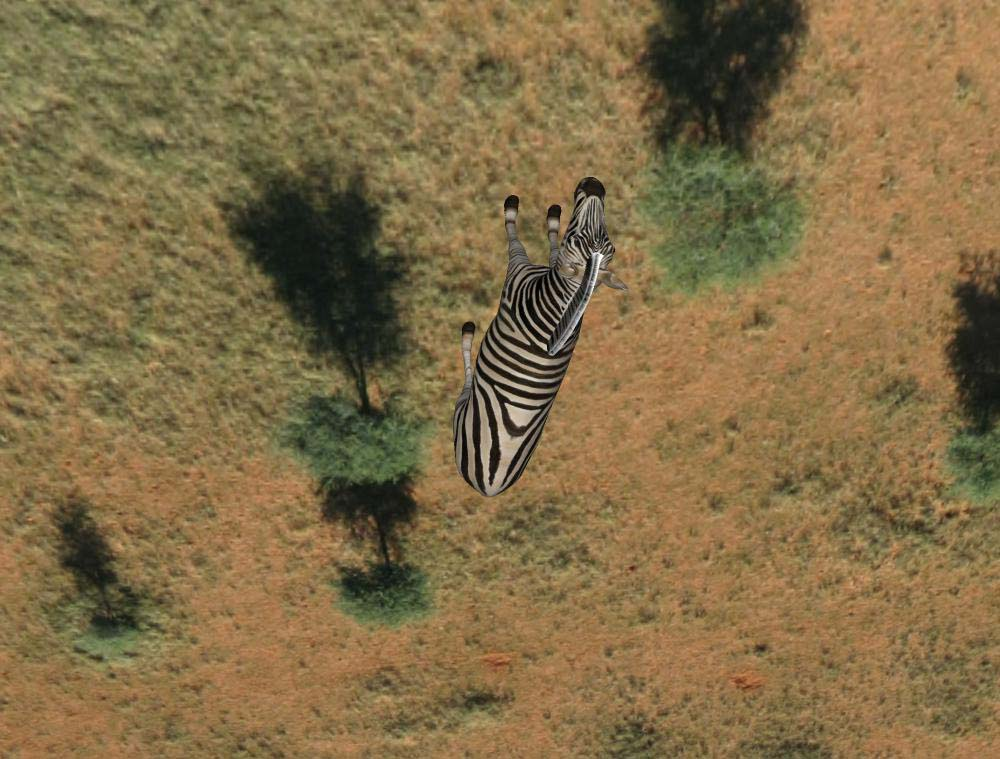zebra: (453, 164, 612, 513)
